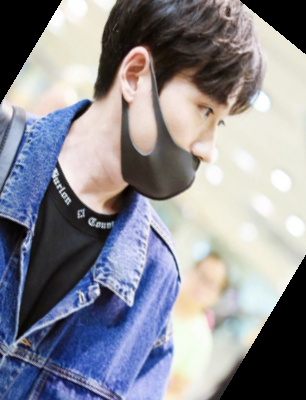mask_weared_incorrect: (96, 3, 281, 210)
